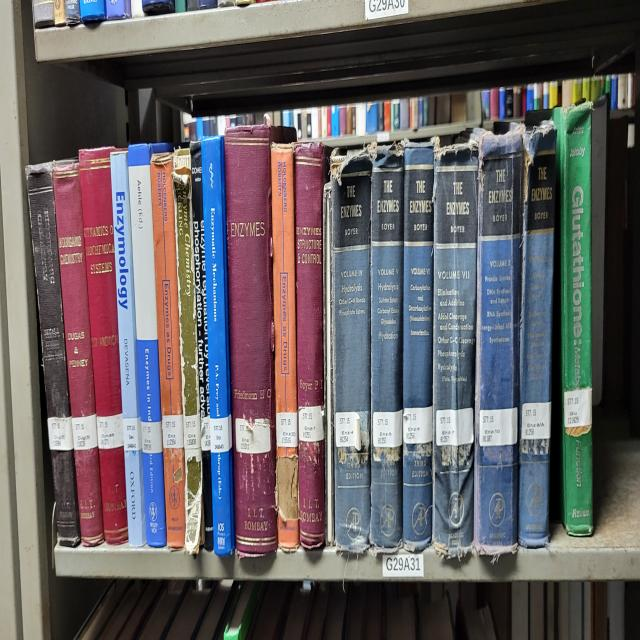Book: (224, 124, 290, 557), (474, 127, 524, 557), (26, 162, 80, 547), (52, 160, 104, 547), (79, 146, 128, 544), (432, 143, 479, 557), (331, 154, 371, 552), (519, 124, 556, 547), (556, 103, 592, 536), (129, 146, 166, 544), (201, 135, 235, 555), (295, 141, 330, 549), (110, 152, 146, 547), (150, 152, 185, 547), (370, 149, 404, 552), (402, 143, 435, 552), (172, 149, 202, 555), (271, 143, 299, 552), (190, 141, 214, 549)
Label: (479, 409, 518, 446), (436, 409, 474, 446), (235, 419, 271, 455), (372, 409, 402, 446), (564, 387, 591, 427), (335, 411, 361, 452), (404, 406, 432, 444), (521, 403, 551, 438), (96, 414, 124, 449), (71, 414, 98, 449), (48, 417, 74, 452), (299, 406, 324, 441), (210, 414, 232, 452), (276, 411, 298, 446), (162, 414, 184, 449), (122, 417, 142, 452), (141, 422, 162, 455), (184, 414, 201, 449), (201, 417, 210, 452)
